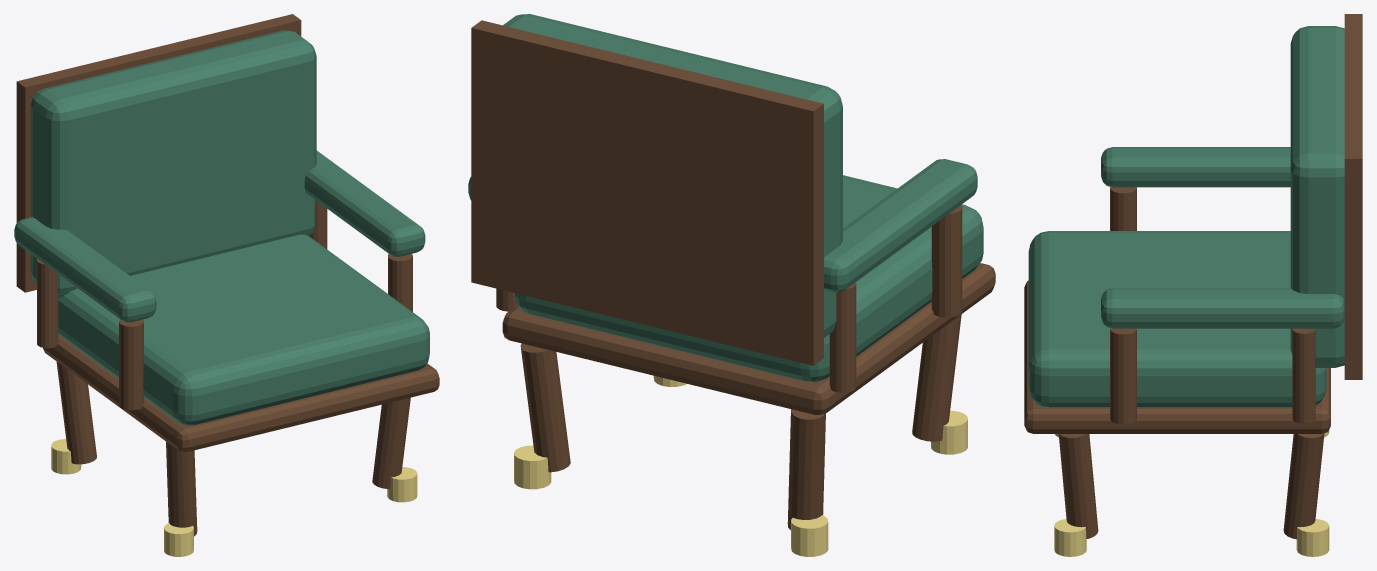
File: club_chair.glb
The picture shows the model from 3 angles, left to right: view 1: azimuth 30°, elevation 25°; view 2: azimuth 150°, elevation 25°; view 3: azimuth 270°, elevation 25°; orthographic projection. The views are drawn at different scales.
Parts seen in each view (by area): view 1: Backrest_Main, SeatCushion, SeatBase, Backrest_Wood, ArmrestPad_L, ArmrestPad_R, Leg_BackL, Leg_FrontR, Leg_FrontL, ArmPostFront_L, ArmPostBack_L, ArmPostFront_R (+4 smaller); view 2: Backrest_Wood, SeatBase, SeatCushion, Backrest_Main, ArmrestPad_L, Leg_BackR, Leg_FrontL, Leg_BackL, ArmPostFront_L, ArmPostBack_L, Ferrule_BackL, Ferrule_BackR (+1 smaller); view 3: SeatCushion, Backrest_Main, ArmrestPad_R, SeatBase, ArmrestPad_L, Backrest_Wood, Leg_BackR, Leg_FrontR, ArmPostFront_R, ArmPostBack_R, ArmPostFront_L, Ferrule_BackR (+1 smaller).
Boxes of the visible parts, x1=… form: Backrest_Main: x1=30, y1=30, x2=316, y2=297; SeatCushion: x1=58, y1=234, x2=429, y2=425; SeatBase: x1=43, y1=335, x2=439, y2=451; Backrest_Wood: x1=16, y1=14, x2=301, y2=292; ArmrestPad_L: x1=14, y1=217, x2=156, y2=322; ArmrestPad_R: x1=304, y1=150, x2=425, y2=256; Leg_BackL: x1=56, y1=362, x2=96, y2=464; Leg_FrontR: x1=372, y1=397, x2=410, y2=488; Leg_FrontL: x1=166, y1=441, x2=197, y2=536; ArmPostFront_L: x1=119, y1=319, x2=143, y2=410; ArmPostBack_L: x1=37, y1=259, x2=58, y2=348; ArmPostFront_R: x1=388, y1=254, x2=412, y2=311; Backrest_Wood: x1=471, y1=20, x2=823, y2=365; SeatBase: x1=502, y1=263, x2=995, y2=414; SeatCushion: x1=514, y1=175, x2=983, y2=382; Backrest_Main: x1=503, y1=14, x2=842, y2=337; ArmrestPad_L: x1=824, y1=159, x2=977, y2=292; Leg_BackR: x1=520, y1=343, x2=570, y2=472; Leg_FrontL: x1=912, y1=314, x2=961, y2=441; Leg_BackL: x1=787, y1=409, x2=825, y2=529; ArmPostFront_L: x1=931, y1=205, x2=962, y2=317; ArmPostBack_L: x1=829, y1=282, x2=856, y2=392; Ferrule_BackL: x1=791, y1=515, x2=828, y2=556; Ferrule_BackR: x1=514, y1=445, x2=551, y2=489; SeatCushion: x1=1028, y1=231, x2=1326, y2=407; Backrest_Main: x1=1290, y1=26, x2=1344, y2=367; ArmrestPad_R: x1=1101, y1=288, x2=1344, y2=328; SeatBase: x1=1024, y1=280, x2=1330, y2=433; ArmrestPad_L: x1=1101, y1=147, x2=1290, y2=187; Backrest_Wood: x1=1344, y1=14, x2=1362, y2=379; Leg_BackR: x1=1283, y1=433, x2=1324, y2=539; Leg_FrontR: x1=1058, y1=434, x2=1098, y2=538; ArmPostFront_R: x1=1110, y1=328, x2=1136, y2=424; ArmPostBack_R: x1=1292, y1=328, x2=1315, y2=423; ArmPostFront_L: x1=1110, y1=187, x2=1136, y2=230; Ferrule_BackR: x1=1296, y1=519, x2=1329, y2=556.
Size of the model in its own units: 0.84 by 0.99 by 0.75.
